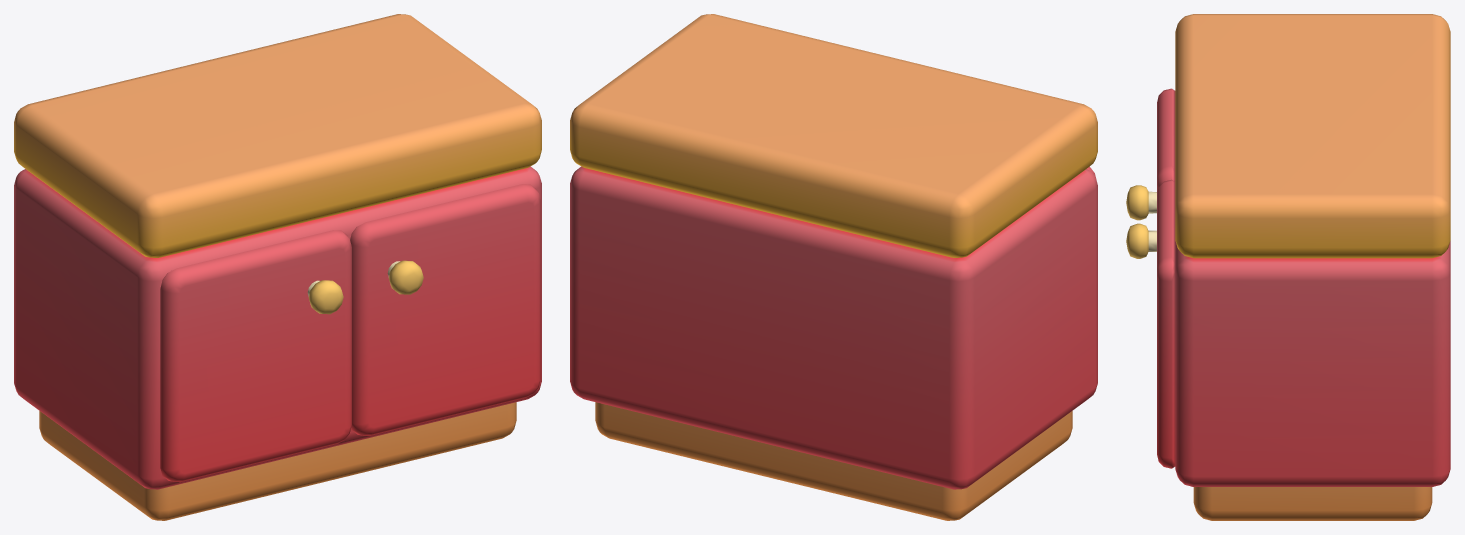
File: Kitchen_Cabinet_001.fbx
3 renders of one model, left to right at view 1: azimuth 30°, elevation 25°; view 2: azimuth 150°, elevation 25°; view 3: azimuth 270°, elevation 25°, orthographic.
Visible parts, largest first — view 1: Kitchen_Cabinet_001; view 2: Kitchen_Cabinet_001; view 3: Kitchen_Cabinet_001.
Boxes of the visible parts, left/top/right/bottom form: Kitchen_Cabinet_001: left=14, top=14, right=541, bottom=520; Kitchen_Cabinet_001: left=570, top=14, right=1097, bottom=520; Kitchen_Cabinet_001: left=1126, top=14, right=1450, bottom=520.
Size of the model in its own units: 1.06 by 0.8503 by 0.7511.
